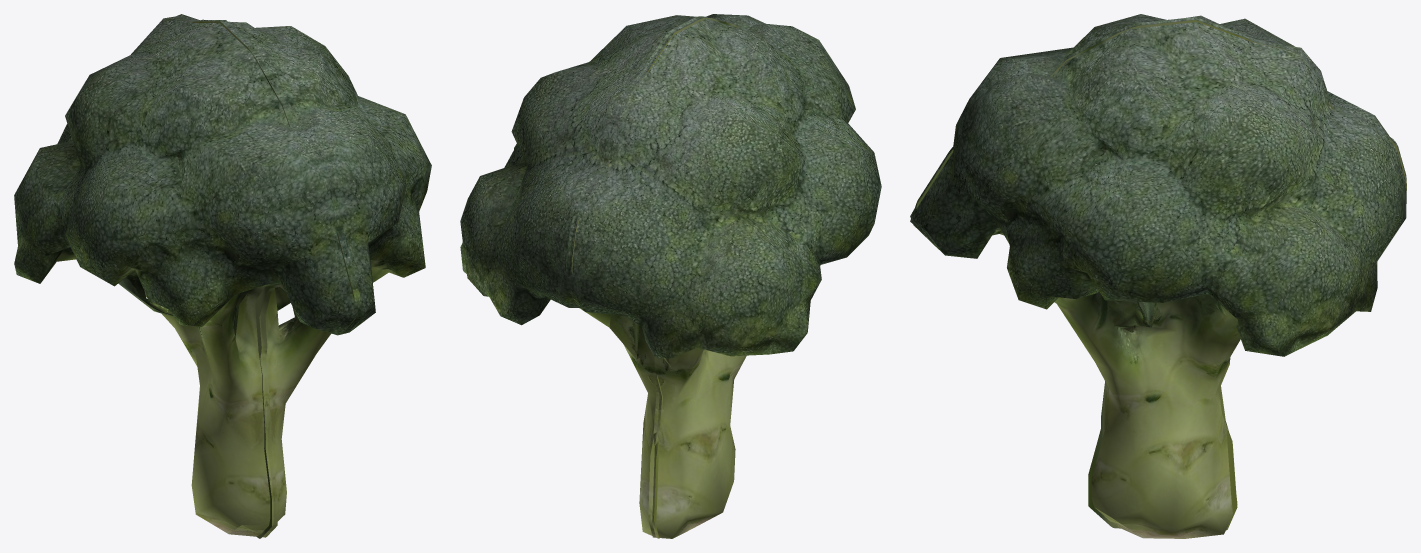
Rendered from Broccoli.gltf.
The picture shows the model from 3 angles, left to right: view 1: azimuth 30°, elevation 25°; view 2: azimuth 150°, elevation 25°; view 3: azimuth 270°, elevation 25°; orthographic projection. The views are drawn at different scales.
Visible parts, largest first — view 1: Broccoli_Left, Broccoli_Right; view 2: Broccoli_Left, Broccoli_Right; view 3: Broccoli_Right, Broccoli_Left.
Boxes of the visible parts, bbox=[...] form: Broccoli_Left: bbox=[14, 16, 361, 537]; Broccoli_Right: bbox=[174, 14, 431, 538]; Broccoli_Left: bbox=[566, 16, 881, 538]; Broccoli_Right: bbox=[460, 14, 765, 538]; Broccoli_Right: bbox=[910, 17, 1406, 538]; Broccoli_Left: bbox=[910, 14, 1406, 530].
Bounding box in the file's own units: 0.858 × 1.18 × 1.03.
Materials: 1 (1 with a texture image).
